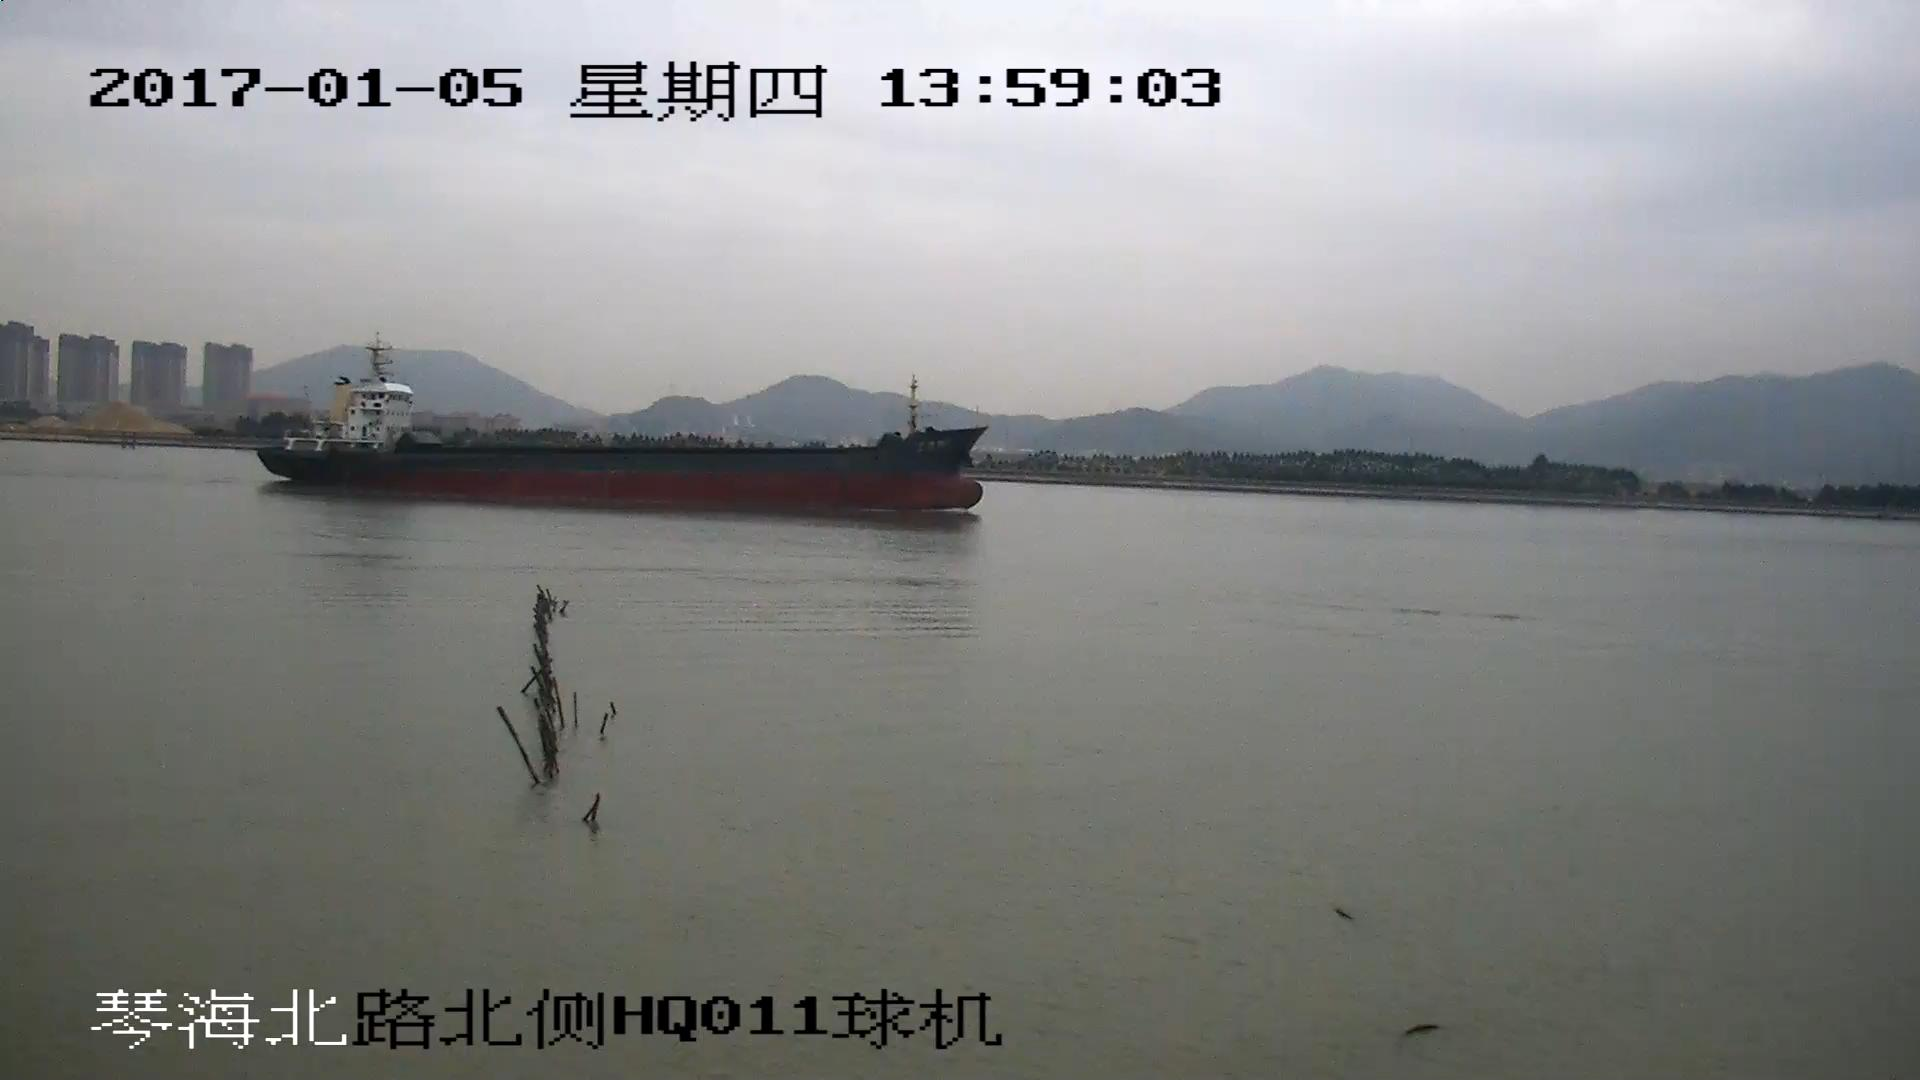general cargo ship: (249, 341, 976, 512)
